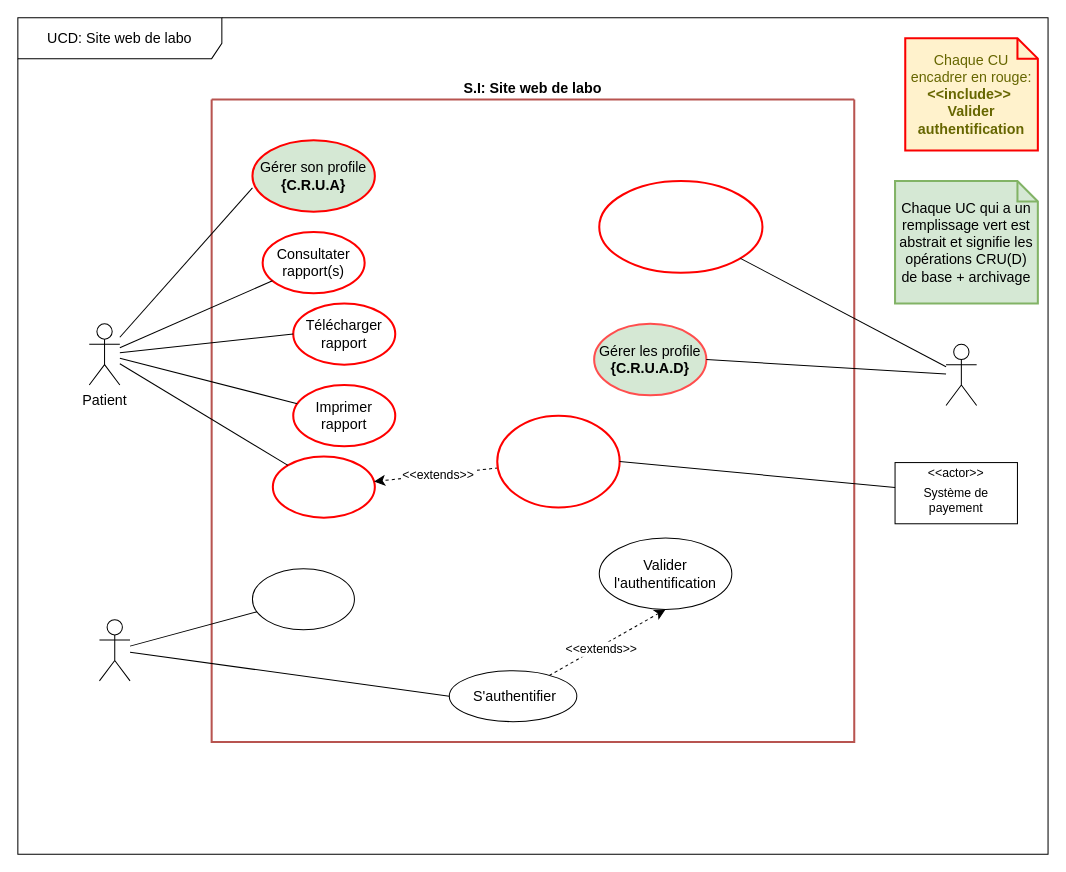
This 1066x872 diagram has some shape labels left out. The shapes that lost their labels are listed below. From the top down, each one's centre as x and y in pixels, then its label:
At (x=680, y=226): "Gérer les rendez-vous {C.R.U.A.D}".
At (x=961, y=374): "Admin".
At (x=558, y=461): "Payement par carte banquaire (en ligne)".
At (x=323, y=486): "Prise de RDV".
At (x=302, y=599): "Inscription".
At (x=114, y=650): "Visiteur".
